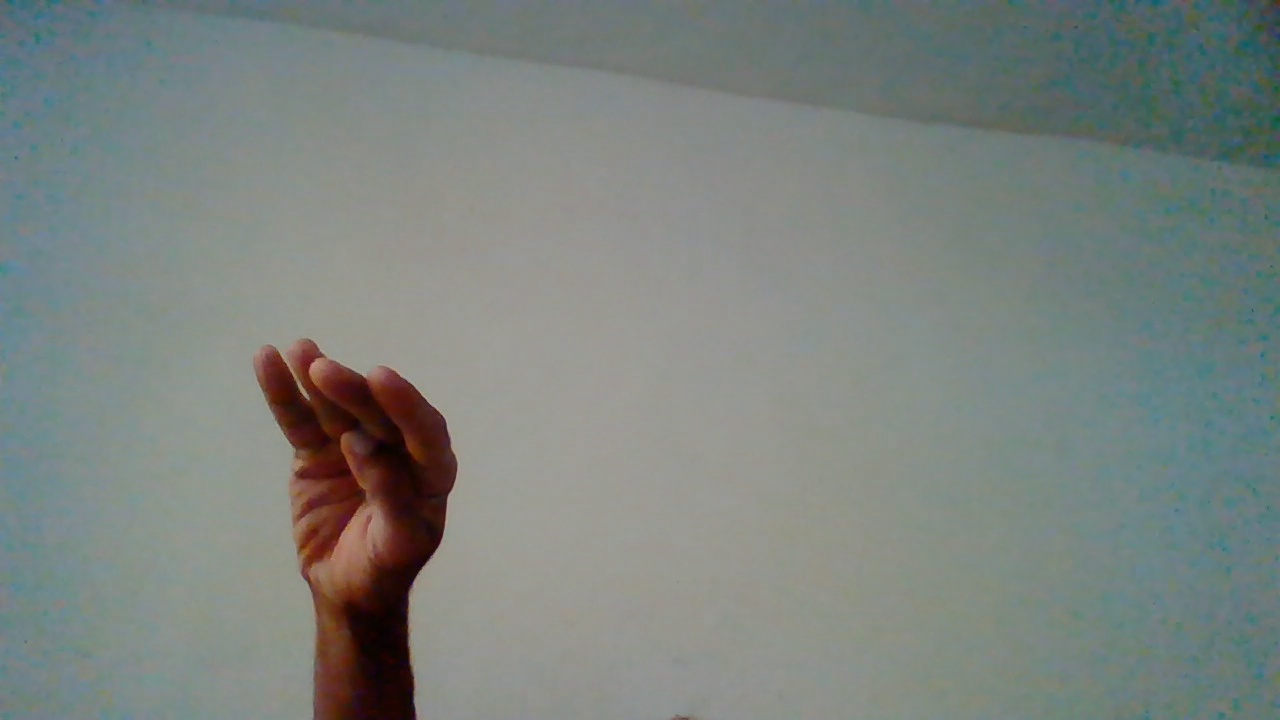me: (251, 337, 465, 710)
